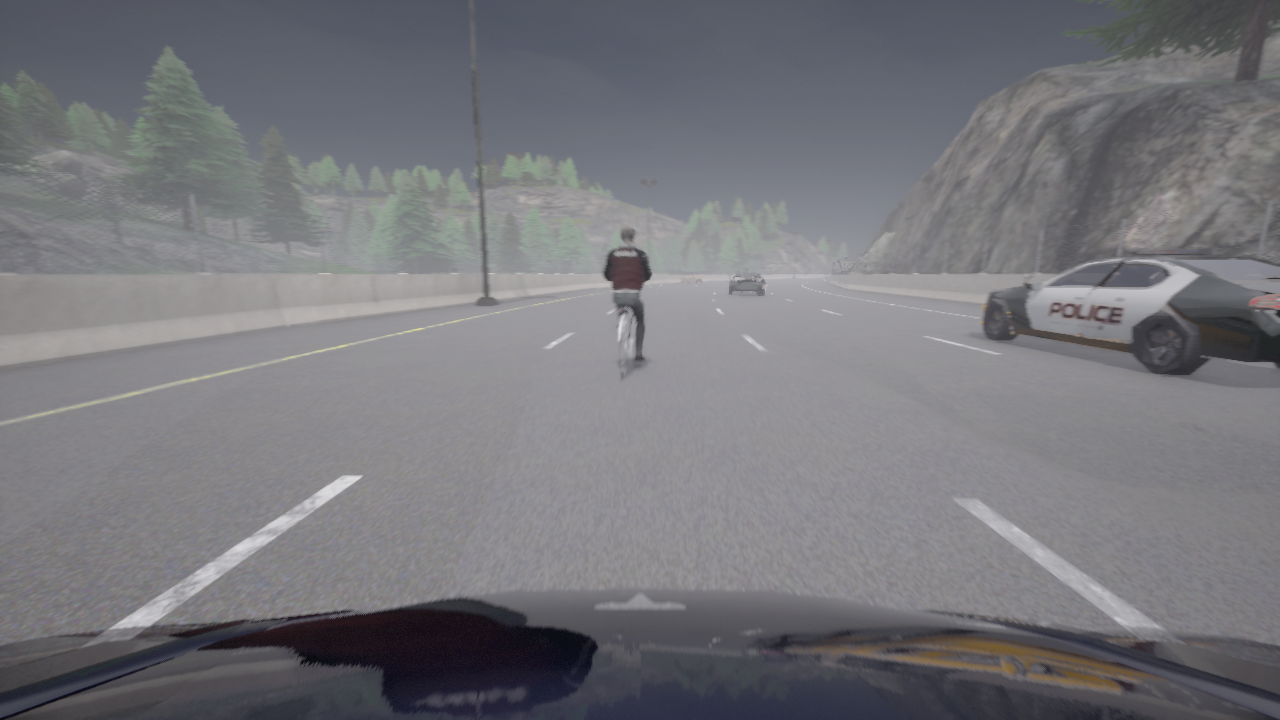cyclist: (0, 588, 1279, 719), (981, 249, 1279, 376), (617, 307, 641, 377), (727, 268, 763, 295), (680, 271, 701, 284), (728, 271, 734, 279)
